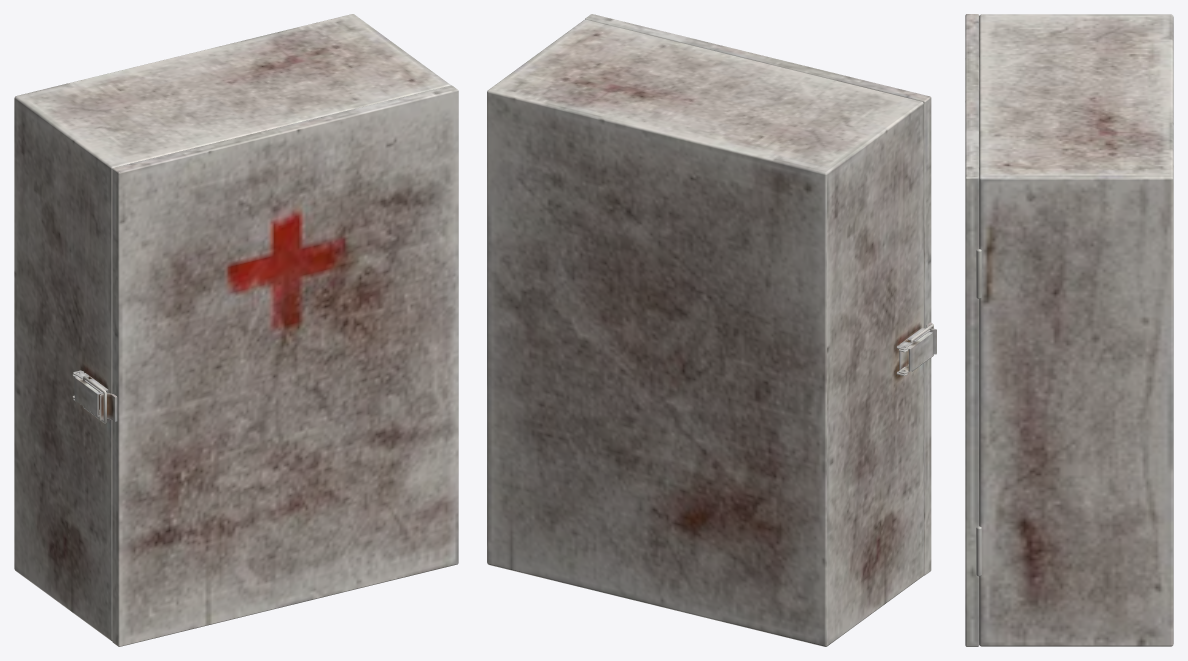
File: medicine-cabinet-wall.glb
3 renders of one model, left to right at view 1: azimuth 30°, elevation 25°; view 2: azimuth 150°, elevation 25°; view 3: azimuth 270°, elevation 25°, orthographic.
Parts seen in each view (by area): view 1: MedicineCabinet_01_Door, MedicineCabinet_01, MedicineCabinet_01_LockLeaver; view 2: MedicineCabinet_01, MedicineCabinet_01_Door, MedicineCabinet_01_LockLeaver; view 3: MedicineCabinet_01, MedicineCabinet_01_Door.
Part boxes in pixels (x1,y1,x2,y2): MedicineCabinet_01_Door: [112, 85, 458, 646]; MedicineCabinet_01: [14, 14, 450, 640]; MedicineCabinet_01_LockLeaver: [72, 373, 103, 416]; MedicineCabinet_01: [487, 19, 923, 646]; MedicineCabinet_01_Door: [585, 14, 931, 575]; MedicineCabinet_01_LockLeaver: [898, 331, 932, 374]; MedicineCabinet_01: [979, 14, 1173, 646]; MedicineCabinet_01_Door: [965, 14, 981, 646].
Bounding box in the file's own units: 0.4689 × 0.6 × 0.2409.
Materials: 1 (1 with a texture image).
